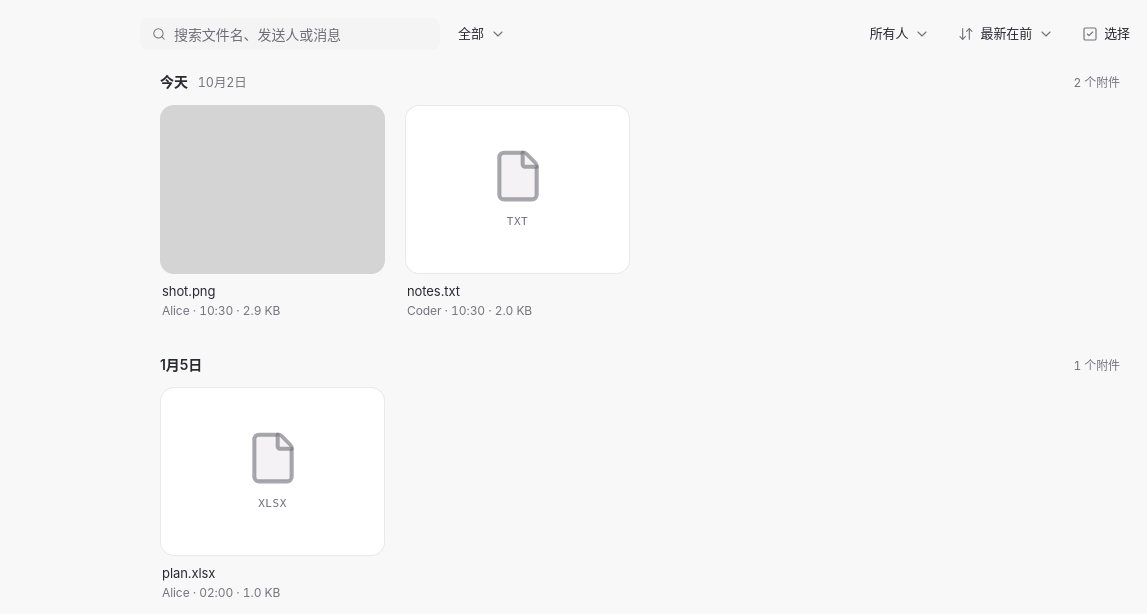
Scenario: the attachments tab in a narrow page › picks the kind from a menu like the sender and the order
Expected: the text "shot.png" is shown, top-left (162, 282), bottom-right (215, 298)
Click the button "全部".
click(482, 34)  # box top-left (448, 19), bottom-right (516, 49)
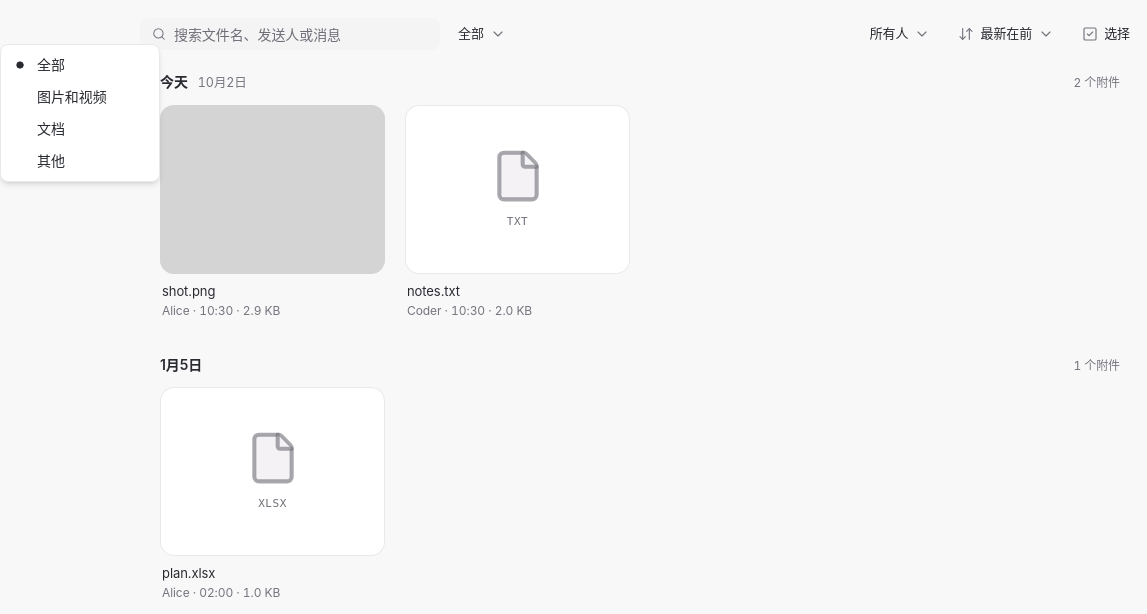
Click the menu item "文档".
click(51, 128)  # box top-left (37, 120), bottom-right (65, 137)
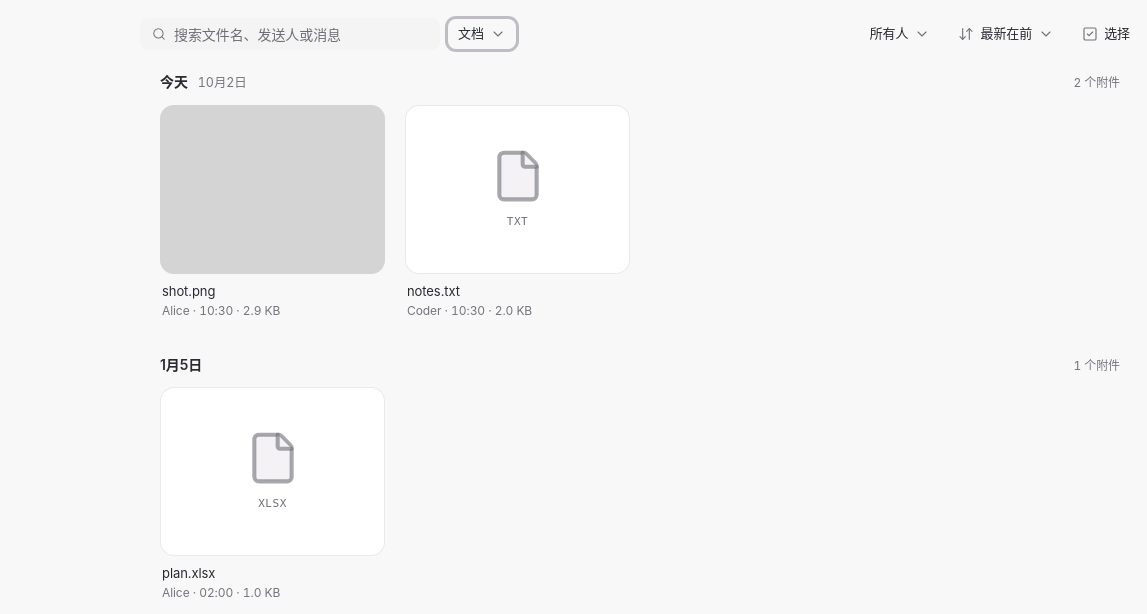
Now the button with aria-label "附件类型: 文档" is shown, box top-left (448, 19), bottom-right (516, 49)
